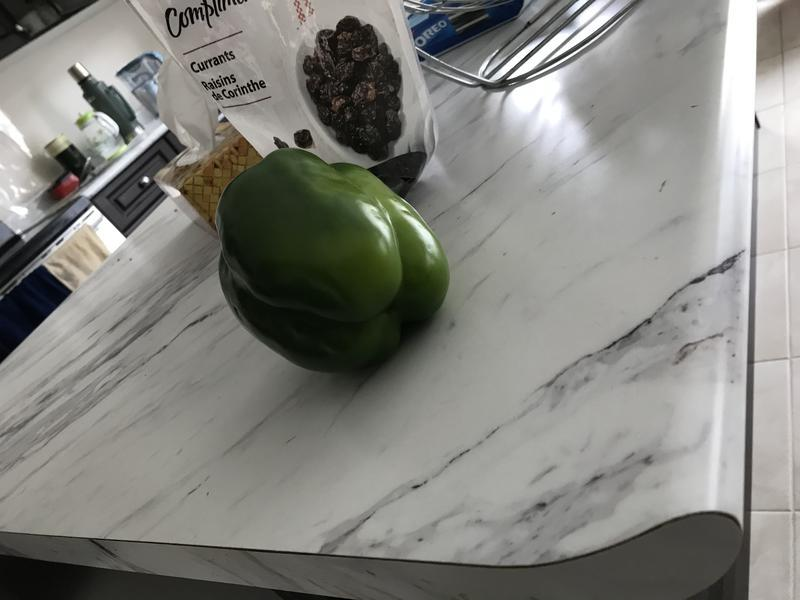green_pepper: (208, 137, 466, 383)
